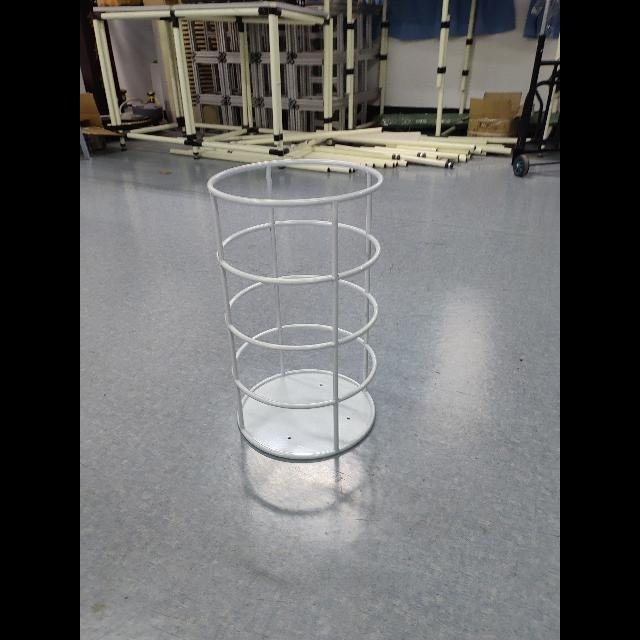S: (202, 154, 388, 462)
